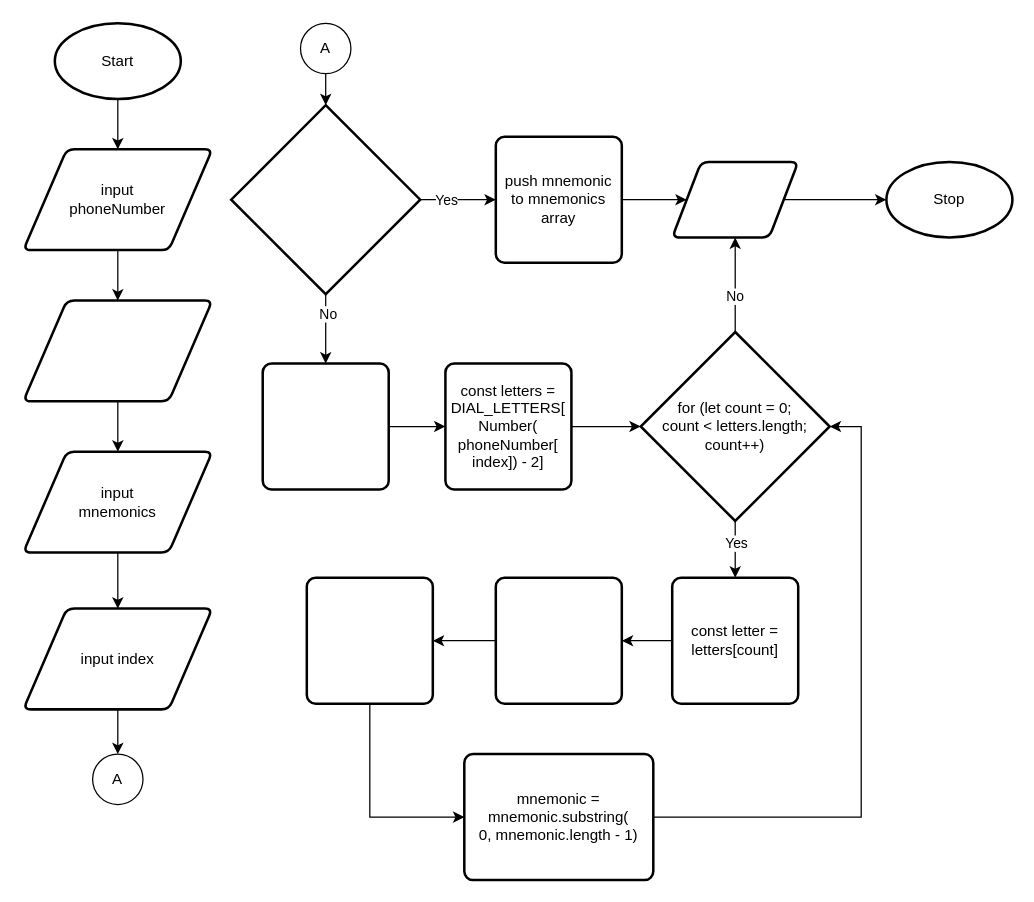
Some shapes in this 1034 by 902 pixel diagram are drawn without their labels. The centre of each missing label's shape, as x and y in pixels:
"Concatenate mnemonic with letter" belongs at (x=558, y=640).
"if mnemonic.length === phoneNumber.length" belongs at (x=325, y=199).
"input currentMnemonic" belongs at (x=117, y=350).
"let mnemonic = ''" belongs at (x=325, y=426).
"listMnemonics( phoneNumber, mnemonic, mnemonics, index + 1)" belongs at (x=369, y=640).
"return mnemonics" belongs at (x=734, y=199).
